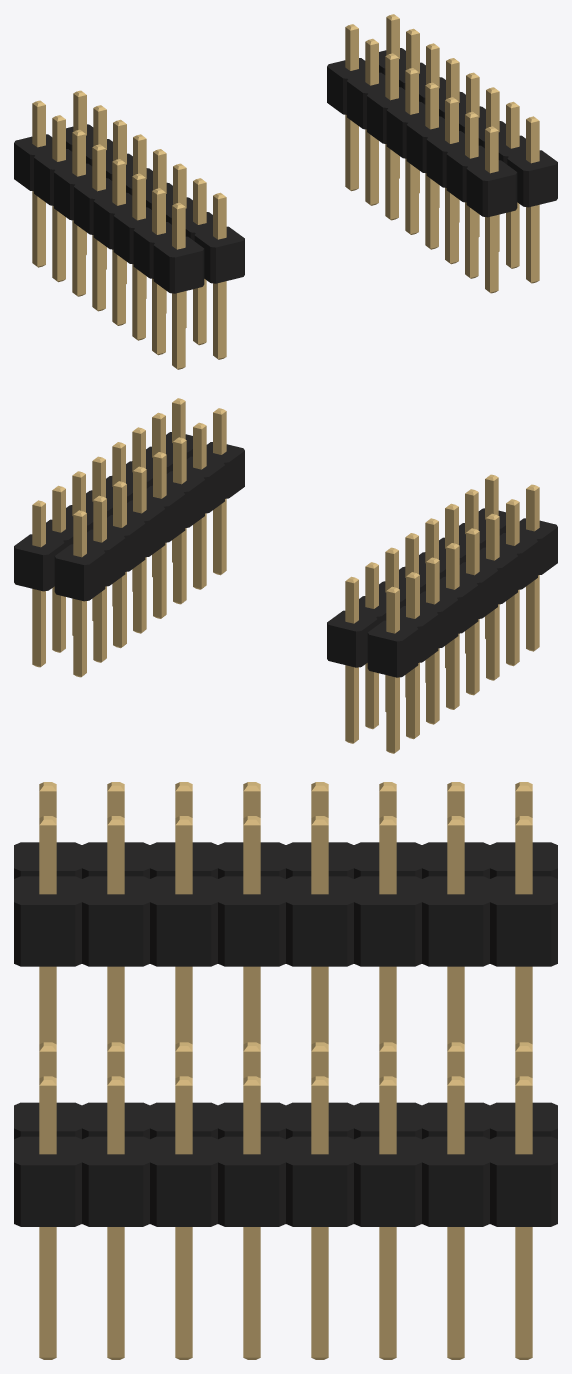
The model's file is mcu_part_CNN1.glb.
The picture shows the model from 3 angles, top to bottom: view 1: azimuth 30°, elevation 25°; view 2: azimuth 150°, elevation 25°; view 3: azimuth 270°, elevation 25°; orthographic projection. The views are drawn at different scales.
Parts seen in each view (by area): view 1: NAUO3, NAUO2, NAUO1, NAUO4; view 2: NAUO3, NAUO2, NAUO1, NAUO4; view 3: NAUO1, NAUO4, NAUO2, NAUO3.
Part boxes in pixels (left/top/right/bottom): NAUO3: left=14, top=100, right=204, bottom=369; NAUO2: left=327, top=24, right=517, bottom=293; NAUO1: left=379, top=14, right=557, bottom=283; NAUO4: left=66, top=90, right=244, bottom=359; NAUO3: left=367, top=484, right=557, bottom=753; NAUO2: left=54, top=408, right=244, bottom=677; NAUO1: left=14, top=398, right=192, bottom=667; NAUO4: left=327, top=474, right=505, bottom=743; NAUO1: left=14, top=1076, right=557, bottom=1359; NAUO4: left=14, top=816, right=557, bottom=1044; NAUO2: left=14, top=1042, right=557, bottom=1139; NAUO3: left=14, top=782, right=557, bottom=878.
Size of the model in its own units: 0.0285 by 0.0115 by 0.0203.
